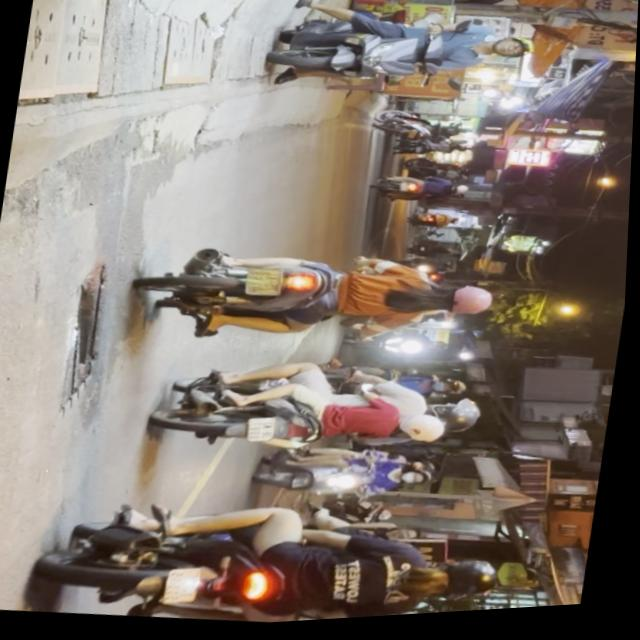helmet: (430, 563, 503, 613), (441, 287, 499, 326), (433, 403, 487, 443), (399, 417, 451, 452), (489, 40, 536, 69)
licenseplate: (35, 475, 517, 637), (138, 228, 507, 372), (154, 344, 495, 483), (263, 0, 543, 114), (255, 440, 443, 518)
nohelmet: (167, 569, 209, 611), (248, 270, 286, 301), (250, 419, 280, 448)
